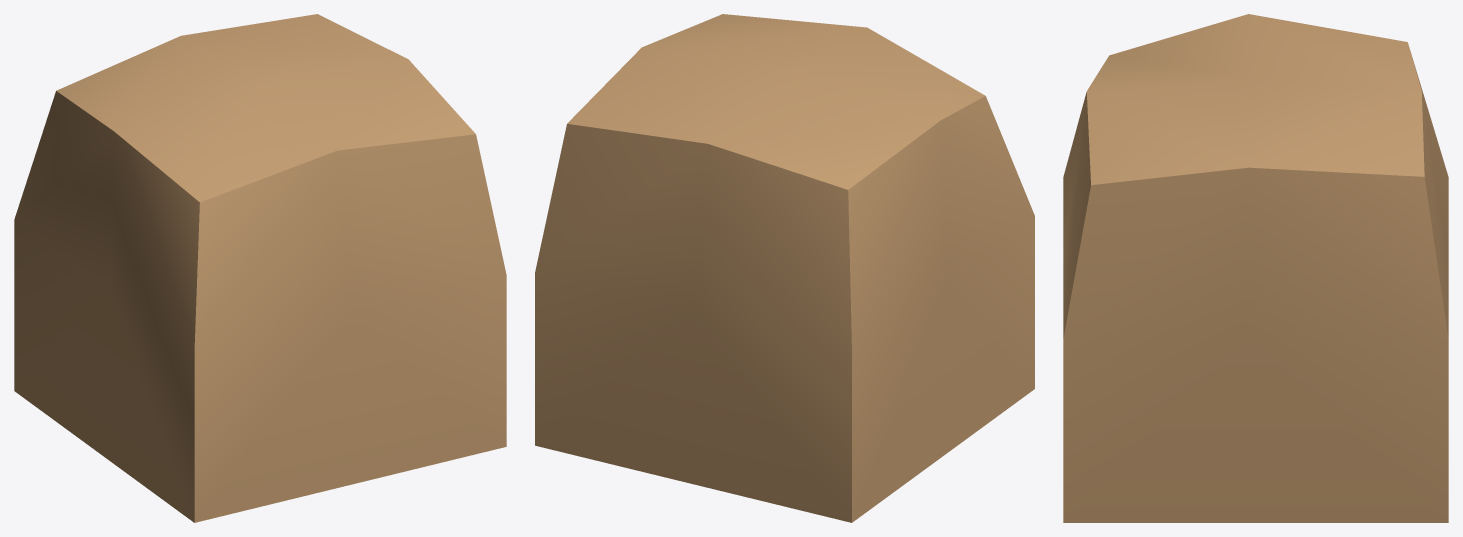
The picture shows the model from 3 angles, left to right: view 1: azimuth 30°, elevation 25°; view 2: azimuth 150°, elevation 25°; view 3: azimuth 270°, elevation 25°; orthographic projection. The views are drawn at different scales.
Visible parts, largest first — view 1: Cube; view 2: Cube; view 3: Cube.
Part boxes in pixels (box(x1,y1,x2,y2)): Cube: box(14, 14, 506, 522); Cube: box(535, 14, 1034, 522); Cube: box(1063, 14, 1448, 522).
Bounding box in the file's own units: 200 × 207 × 200.
